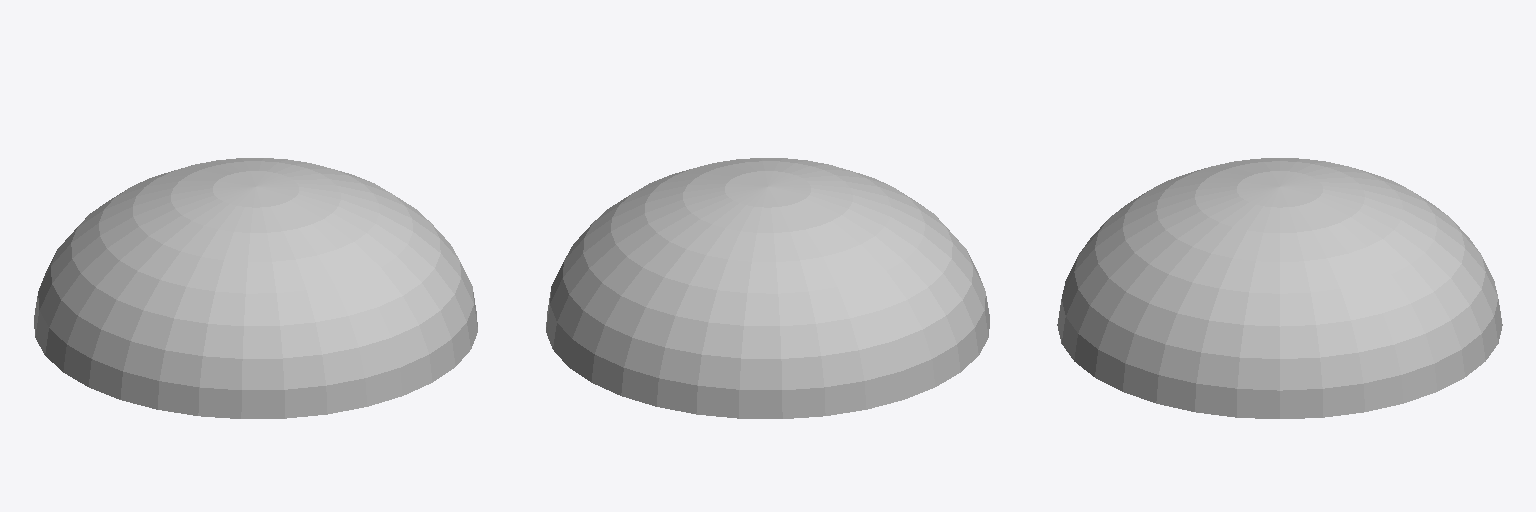
The model's file is 3DSupportLight.obj.
The picture shows the model from 3 angles: view 1: azimuth 30°, elevation 25°; view 2: azimuth 150°, elevation 25°; view 3: azimuth 270°, elevation 25°; orthographic projection.
Visible parts, largest first — view 1: Sphere; view 2: Sphere; view 3: Sphere.
Part boxes in pixels (bbox=[...]): Sphere: bbox=[34, 158, 477, 418]; Sphere: bbox=[546, 158, 989, 418]; Sphere: bbox=[1057, 158, 1502, 418].
Size of the model in its own units: 1.75 by 0.6026 by 1.75.